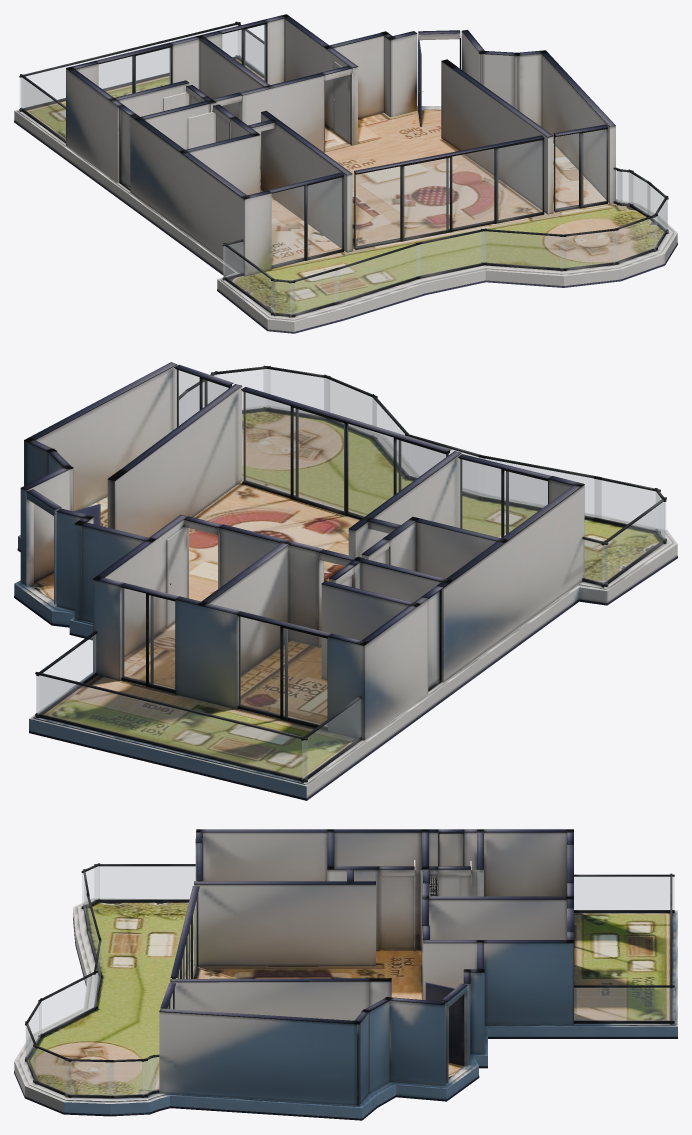
The picture shows the model from 3 angles, top to bottom: view 1: azimuth 30°, elevation 25°; view 2: azimuth 150°, elevation 25°; view 3: azimuth 270°, elevation 25°; orthographic projection. The views are drawn at different scales.
Visible parts, largest first — view 1: plan, glass4_m, glass3_m, glass5_m, railg0_m, railg14_m, railg12_m, glass0_m, railg13_m, railg11_m, railg4_m, railg15_m (+10 smaller); view 2: plan, glass4_m, railg0_m, glass0_m, glass3_m, glass1_m, railg14_m, railg4_m, railg15_m, railg3_m, railg2_m, railg10_m (+7 smaller); view 3: plan, railg4_m, railg2_m, railg3_m, railg12_m, railg8_m, railg7_m, railg9_m, glass4_m, railg16_m, railg11_m.
Part boxes in pixels (bbox=[...]): plan: bbox=[14, 14, 677, 333]; glass4_m: bbox=[355, 140, 542, 247]; glass3_m: bbox=[272, 177, 341, 266]; glass5_m: bbox=[555, 129, 606, 209]; railg0_m: bbox=[20, 25, 237, 108]; railg14_m: bbox=[334, 244, 421, 302]; railg12_m: bbox=[481, 231, 565, 268]; glass0_m: bbox=[99, 48, 170, 97]; railg13_m: bbox=[417, 231, 486, 276]; railg11_m: bbox=[560, 231, 617, 268]; railg4_m: bbox=[224, 246, 275, 313]; railg15_m: bbox=[289, 270, 338, 314]; plan: bbox=[14, 362, 677, 800]; glass4_m: bbox=[243, 392, 445, 517]; railg0_m: bbox=[36, 675, 307, 778]; glass0_m: bbox=[238, 616, 327, 726]; glass3_m: bbox=[460, 459, 547, 537]; glass1_m: bbox=[122, 588, 174, 689]; railg14_m: bbox=[479, 457, 600, 518]; railg4_m: bbox=[602, 502, 665, 584]; railg15_m: bbox=[594, 479, 659, 529]; railg3_m: bbox=[302, 699, 360, 779]; railg2_m: bbox=[37, 634, 95, 714]; railg10_m: bbox=[264, 369, 329, 415]; plan: bbox=[14, 829, 677, 1120]; railg4_m: bbox=[95, 866, 195, 899]; railg2_m: bbox=[574, 988, 674, 1020]; railg3_m: bbox=[574, 877, 674, 909]; railg12_m: bbox=[39, 973, 96, 1035]; railg8_m: bbox=[65, 1061, 113, 1095]; railg7_m: bbox=[107, 1061, 147, 1095]; railg9_m: bbox=[33, 1047, 70, 1094]; glass4_m: bbox=[176, 902, 196, 978]; railg16_m: bbox=[82, 867, 99, 906]; railg11_m: bbox=[26, 1002, 41, 1058].
Bounding box in the file's own units: 12.5 × 2.62 × 16.68.
Materials: 2 (1 with a texture image).
